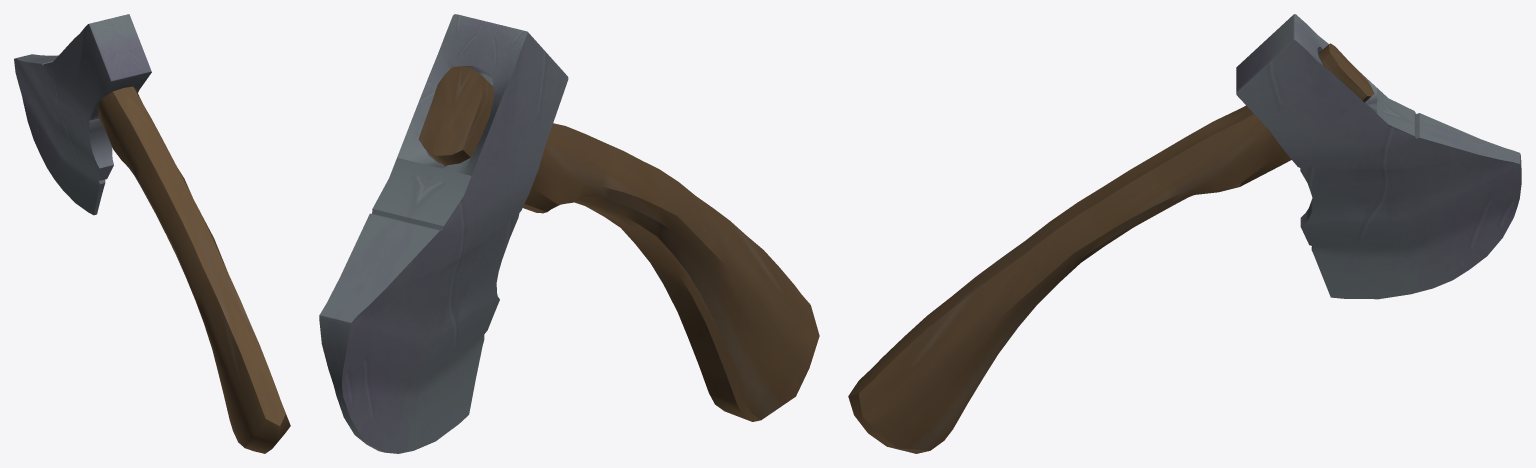
The model's file is Machado.fbx.
The picture shows the model from 3 angles, left to right: view 1: azimuth 30°, elevation 25°; view 2: azimuth 150°, elevation 25°; view 3: azimuth 270°, elevation 25°; orthographic projection. The views are drawn at different scales.
Visible parts, largest first — view 1: Machado; view 2: Machado; view 3: Machado.
Part boxes in pixels (x1,y1,x2,y2): Machado: (14,14,290,453); Machado: (319,14,819,453); Machado: (848,14,1521,453).
Bounding box in the file's own units: 7.48 × 55.88 × 79.86.
